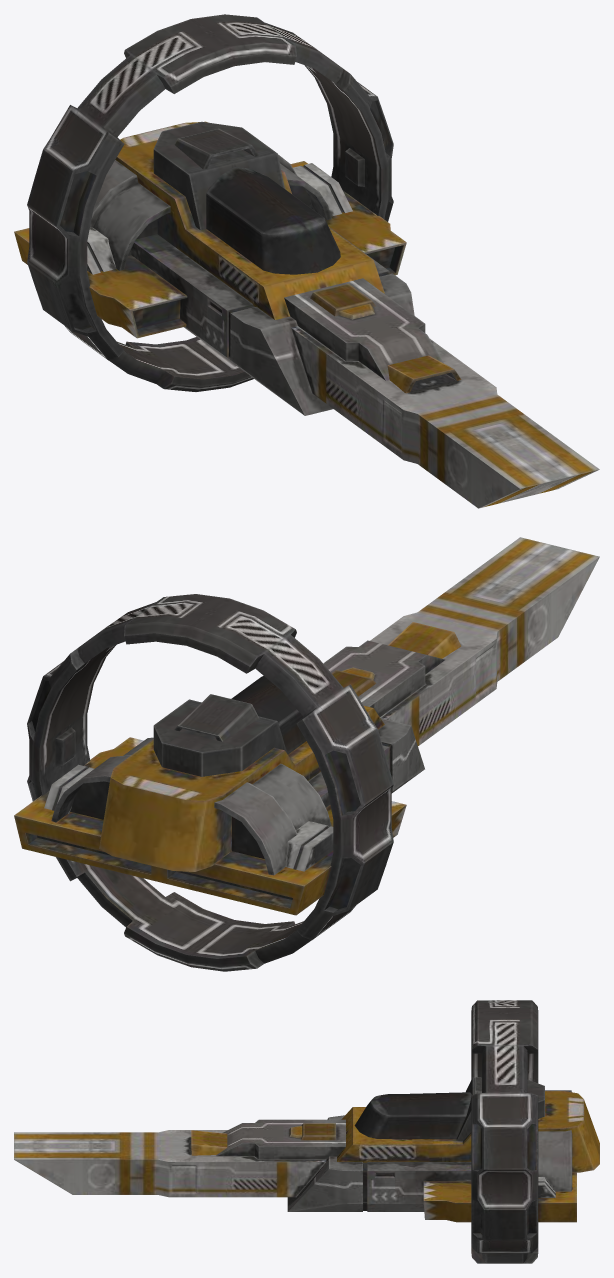
The model's file is ship_Zenith.glb.
The picture shows the model from 3 angles, top to bottom: view 1: azimuth 30°, elevation 25°; view 2: azimuth 150°, elevation 25°; view 3: azimuth 270°, elevation 25°; orthographic projection. The views are drawn at different scales.
Visible parts, largest first — view 1: Zenith; view 2: Zenith; view 3: Zenith.
Part boxes in pixels (x1,y1,x2,y2): Zenith: (14,14,599,508); Zenith: (14,537,599,971); Zenith: (14,1000,599,1263).
Bounding box in the file's own units: 5.63 × 5.43 × 12.07.
Materials: 1 (1 with a texture image).
